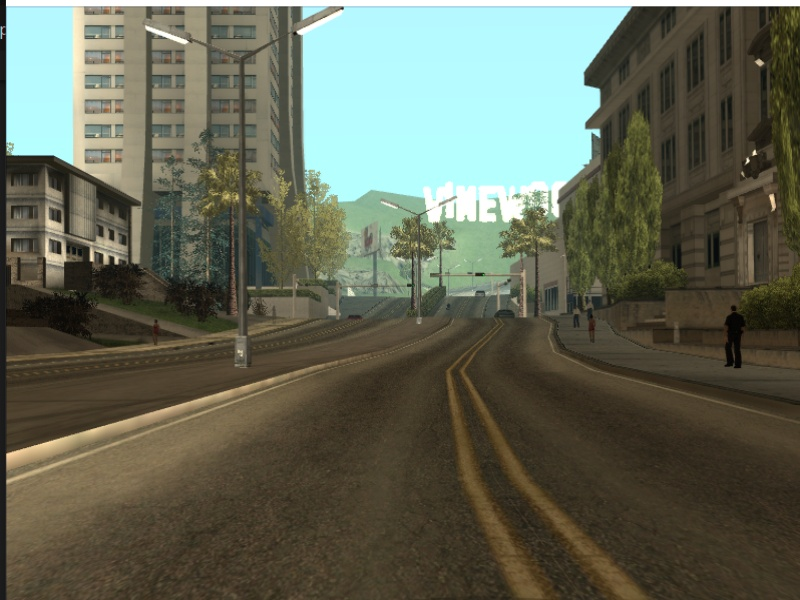person: (722, 306, 749, 369), (585, 313, 600, 344), (151, 318, 164, 345), (573, 305, 582, 328)
pole: (233, 56, 258, 370), (414, 215, 429, 328), (290, 275, 300, 322), (332, 282, 343, 322), (520, 272, 529, 320)
vehicle: (493, 307, 517, 322)
